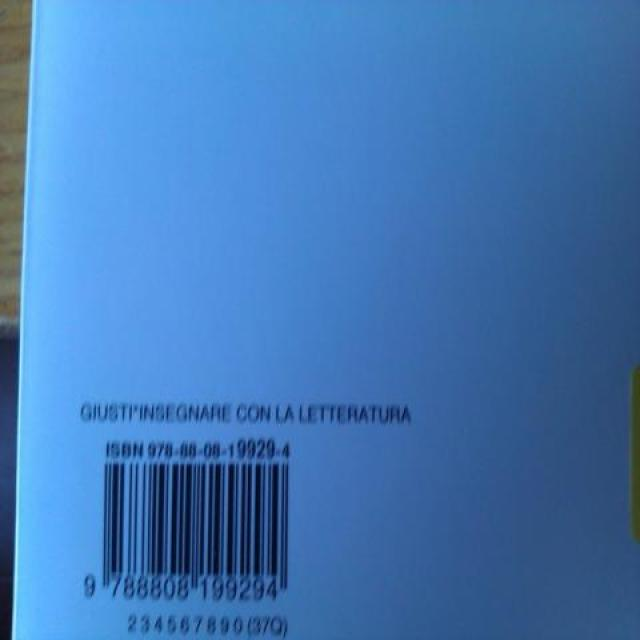Barcode: (75, 432, 308, 608)
